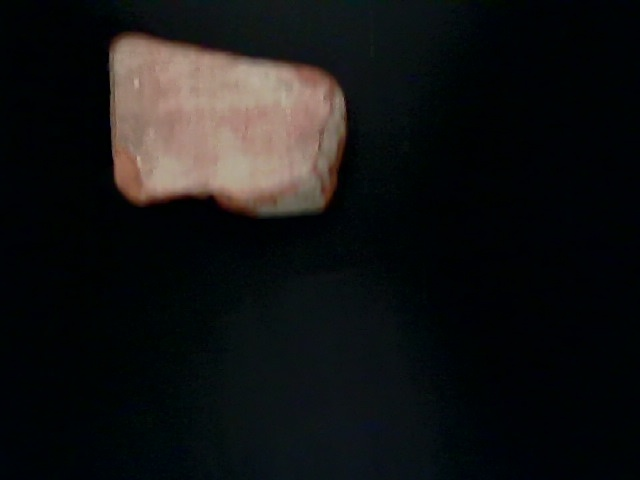KHSLJ: (46, 262, 357, 480)
